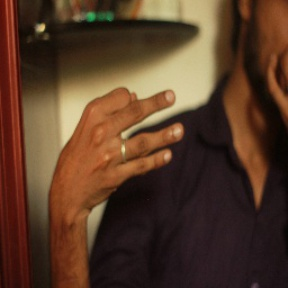K: (51, 82, 180, 200)
